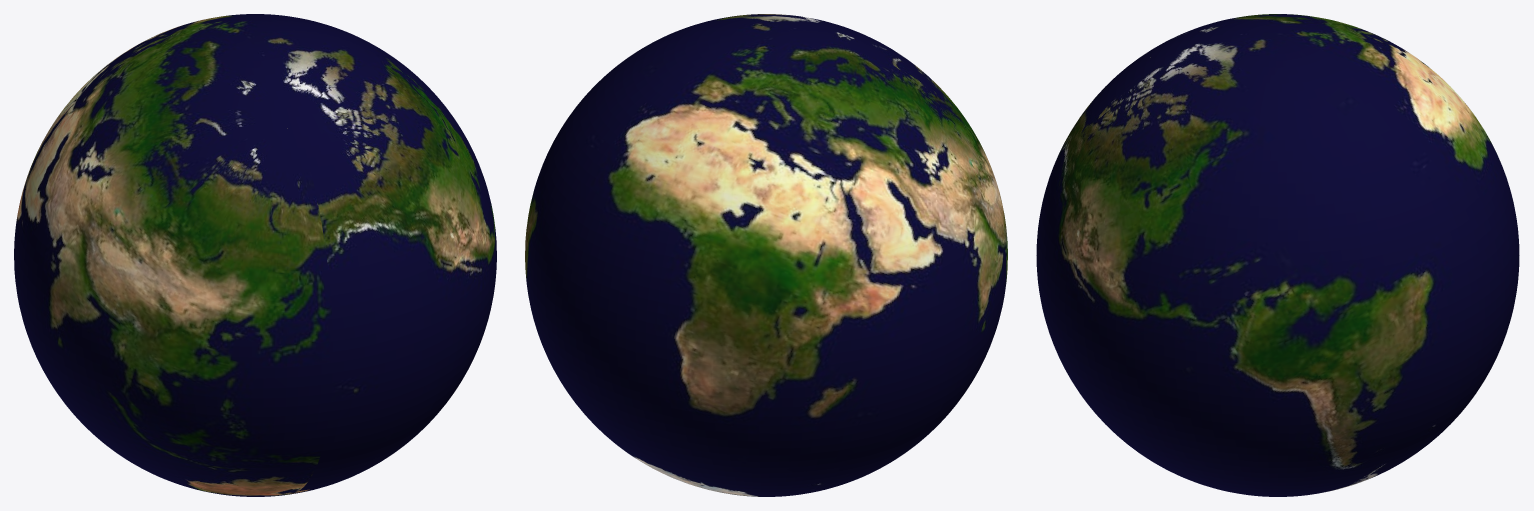
File: Earth.dae
3 renders of one model, left to right at view 1: azimuth 30°, elevation 25°; view 2: azimuth 150°, elevation 25°; view 3: azimuth 270°, elevation 25°, orthographic.
Parts seen in each view (by area): view 1: Sphere; view 2: Sphere; view 3: Sphere.
Boxes of the visible parts, x1,y1,x2,y2 form: Sphere: (14, 14, 496, 496); Sphere: (525, 14, 1007, 496); Sphere: (1036, 14, 1519, 496).
Size of the model in its own units: 2 by 2 by 2.
Materials: 1 (1 with a texture image).
